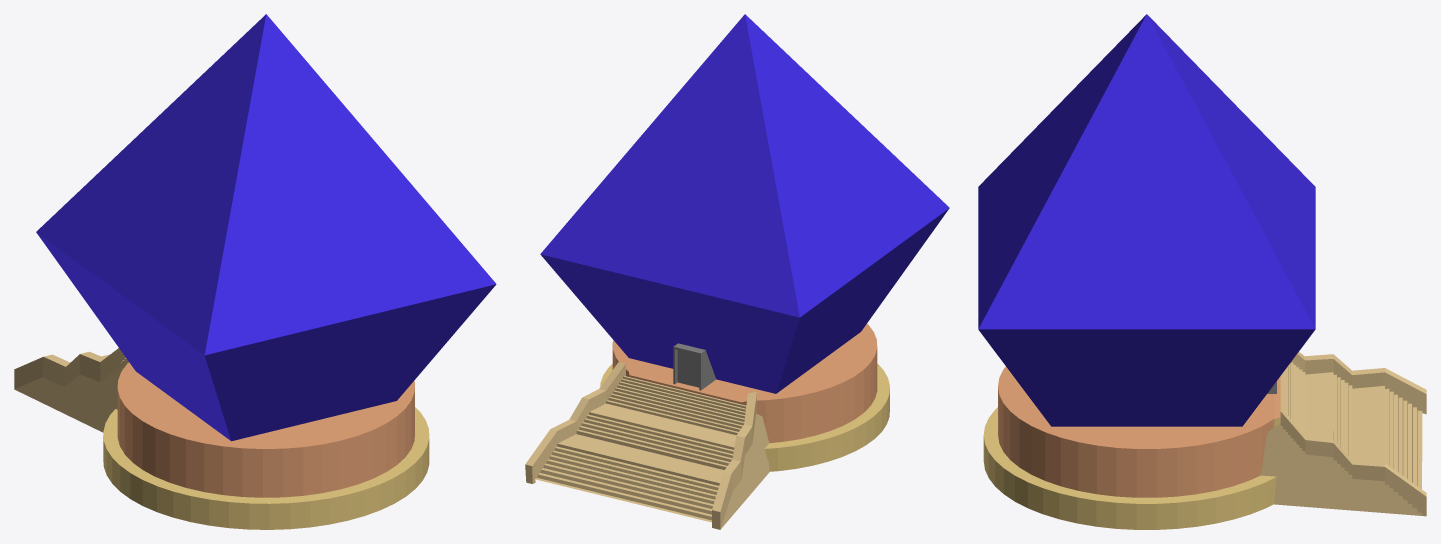
3 renders of one model, left to right at view 1: azimuth 30°, elevation 25°; view 2: azimuth 150°, elevation 25°; view 3: azimuth 270°, elevation 25°, orthographic. The views are drawn at different scales.
Visible parts, largest first — view 1: diamond, base, Circle, Cube; view 2: diamond, Cube, base, Circle, gate; view 3: diamond, Cube, base, Circle.
Boxes of the visible parts, x1,y1,x2,y2 form: diamond: [36, 14, 496, 441]; base: [117, 362, 414, 497]; Circle: [103, 407, 429, 529]; Cube: [14, 348, 128, 432]; diamond: [540, 14, 949, 393]; Cube: [525, 362, 769, 529]; base: [612, 324, 877, 442]; Circle: [600, 363, 889, 471]; gate: [673, 343, 716, 390]; diamond: [978, 14, 1315, 426]; Cube: [1260, 352, 1426, 516]; base: [998, 366, 1280, 497]; Circle: [983, 407, 1280, 529].
Size of the model in its own units: 8.27 by 12.18 by 10.99.
